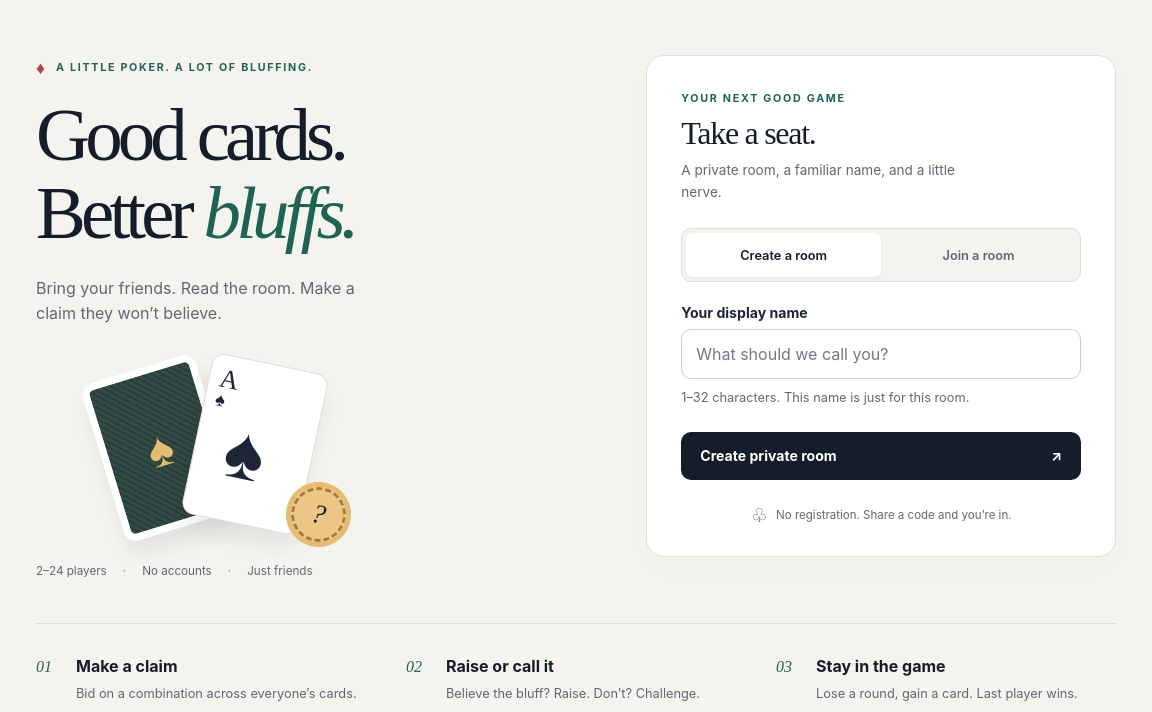
it: room entry › validates names and codes before submitting
The width and height of the screenshot is (1152, 712).
Click the button "Create private room ↗".
click(768, 456)  # box [681,432,1081,480]
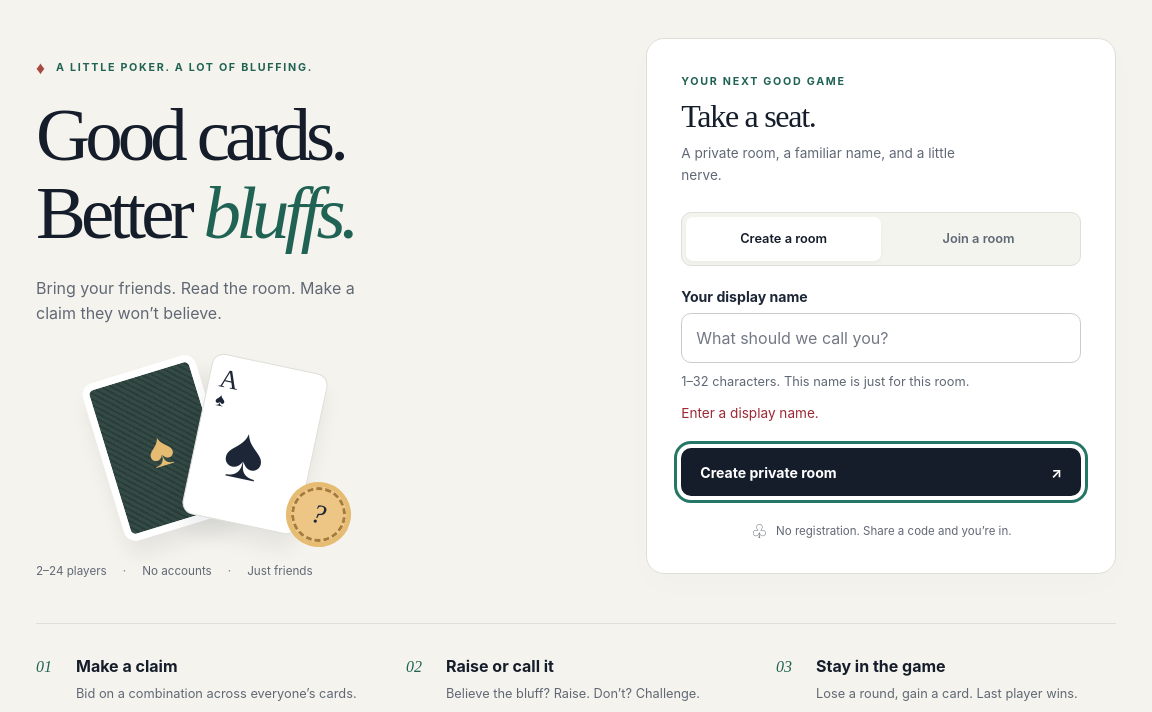
Result: the message shows "Enter a display name" at [681,405,819,421]
Type "Alice" into the field labelled "Your display name".
click(881, 338); type("Alice")  # box [681,312,1081,362]
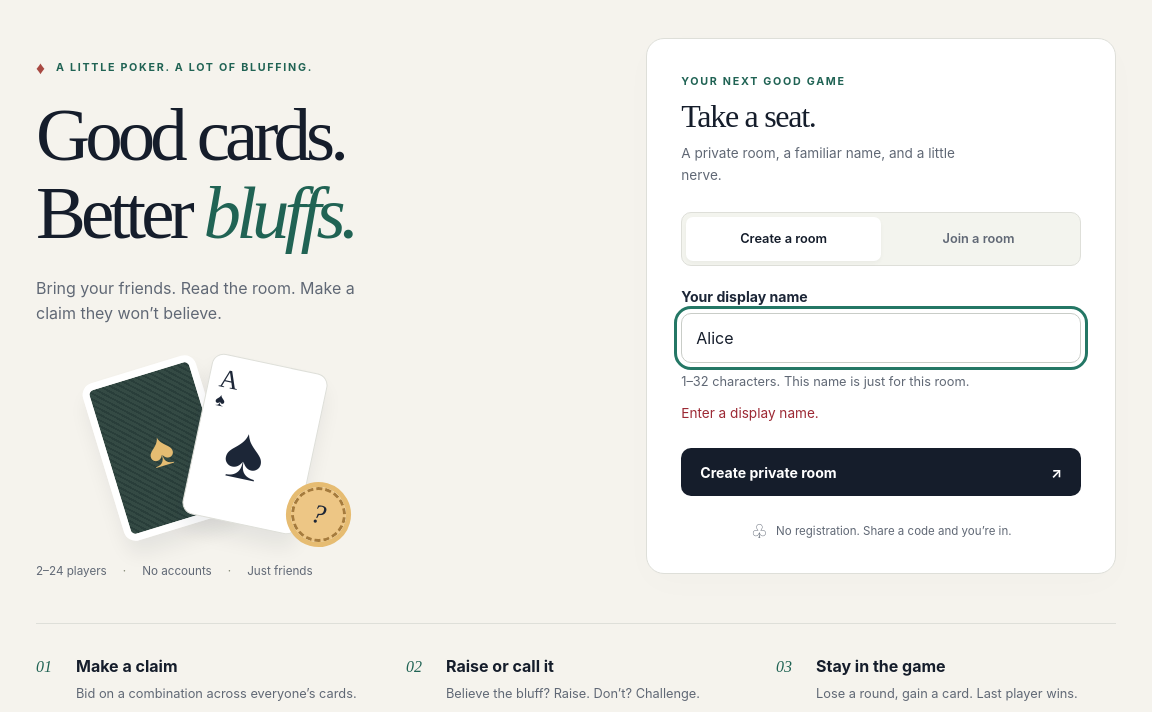
Click the button "Join a room".
click(979, 238)  # box [881,216,1076,260]
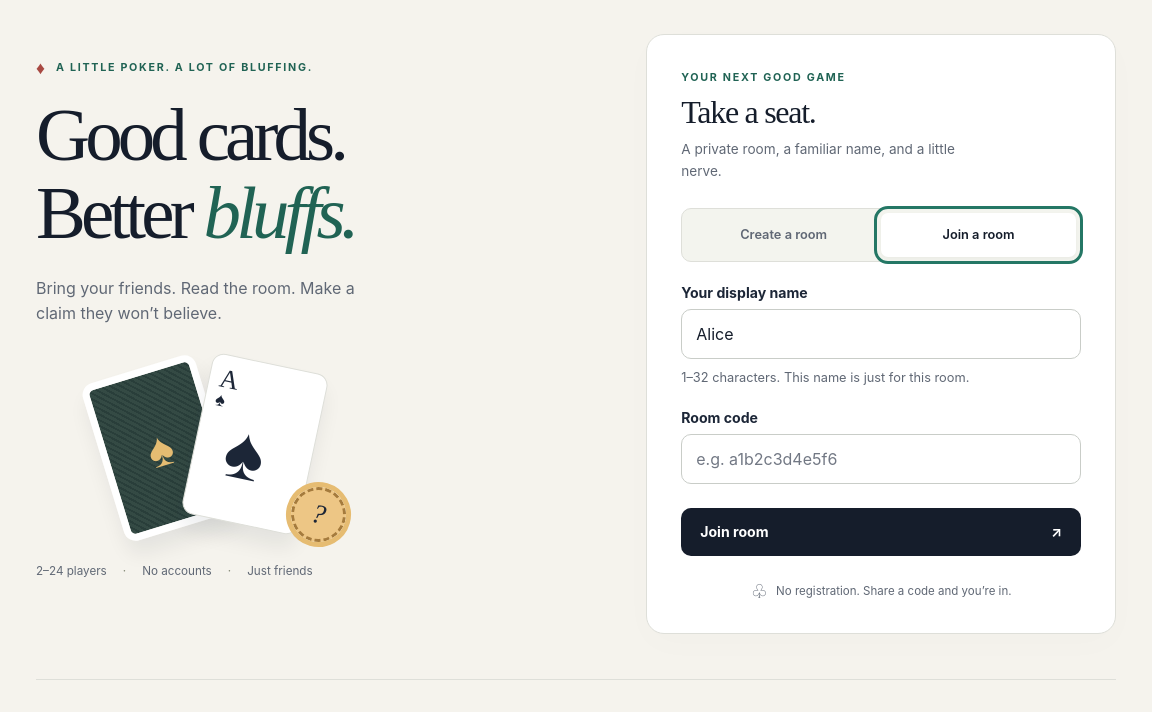
Type "wrong" into the field labelled "Room code".
click(881, 459); type("wrong")  # box [681,434,1081,484]
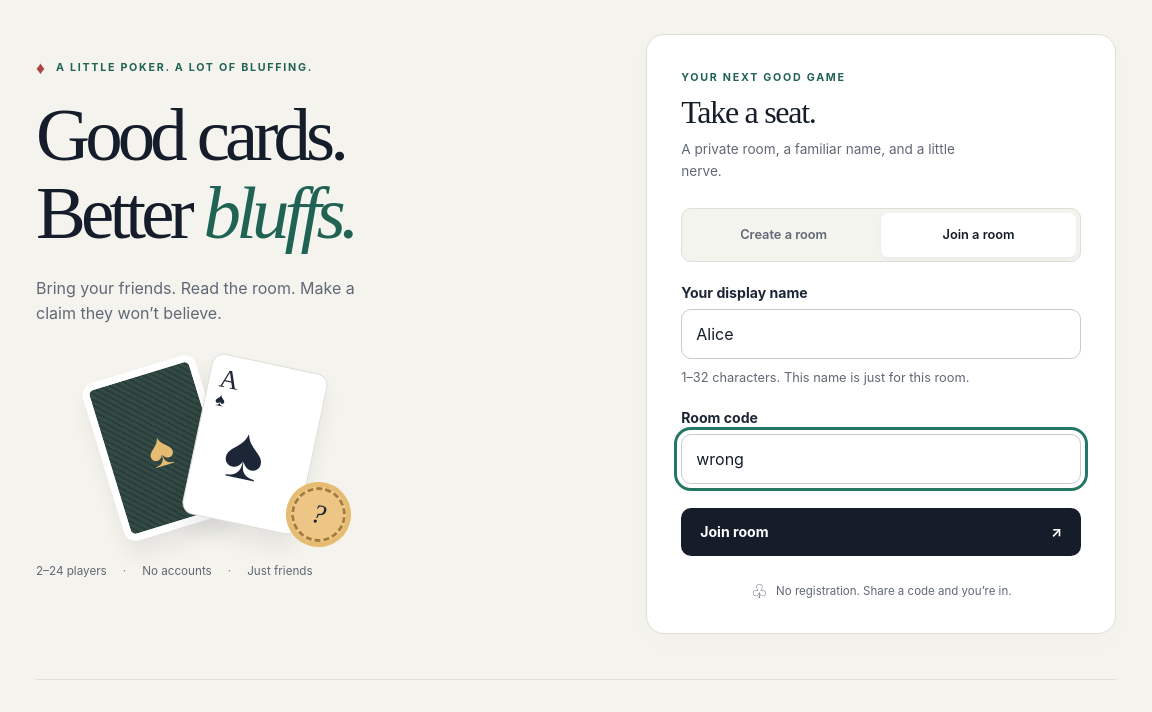
Click the button "Join room ↗".
click(734, 532)  # box [681,508,1081,556]
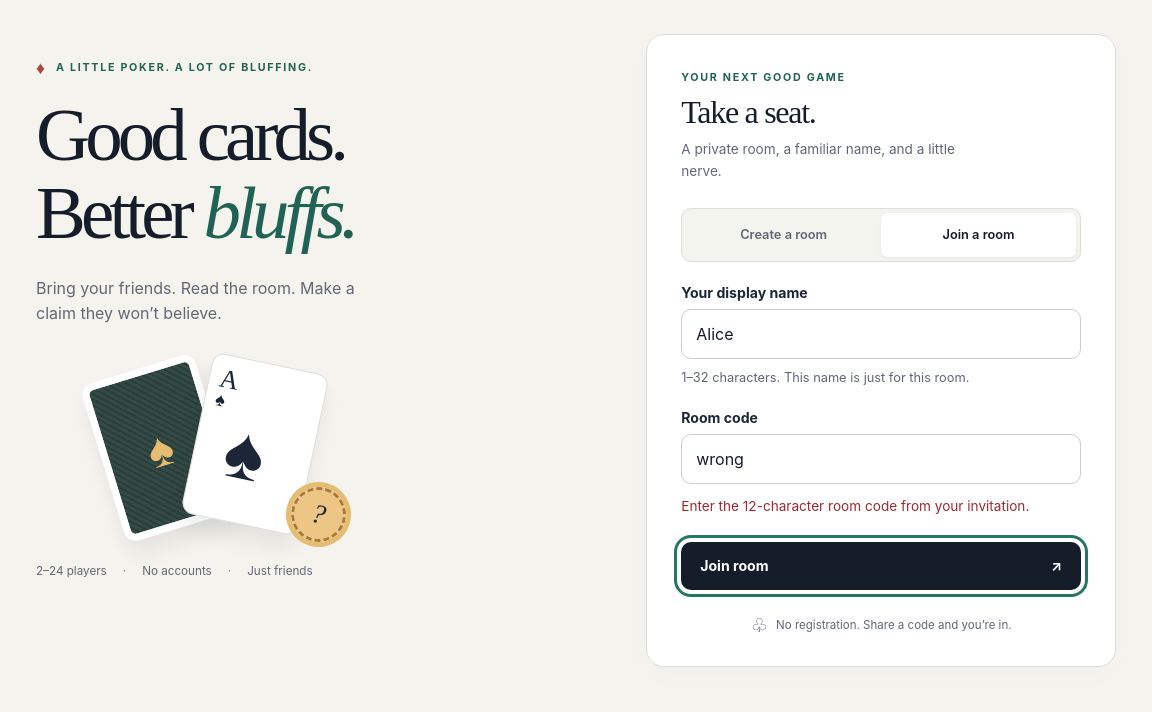
Result: the message shows "12-character" at [681,498,1029,514]
